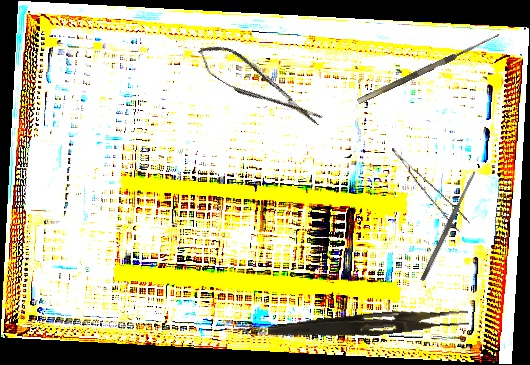Dressing Forceps: (267, 302, 470, 347)
Hook Surgical: (353, 25, 501, 105)
Micro Scissor: (191, 34, 328, 139)
Spatula Surgical: (419, 170, 478, 282)
Tissue Forceps: (391, 137, 471, 236)
